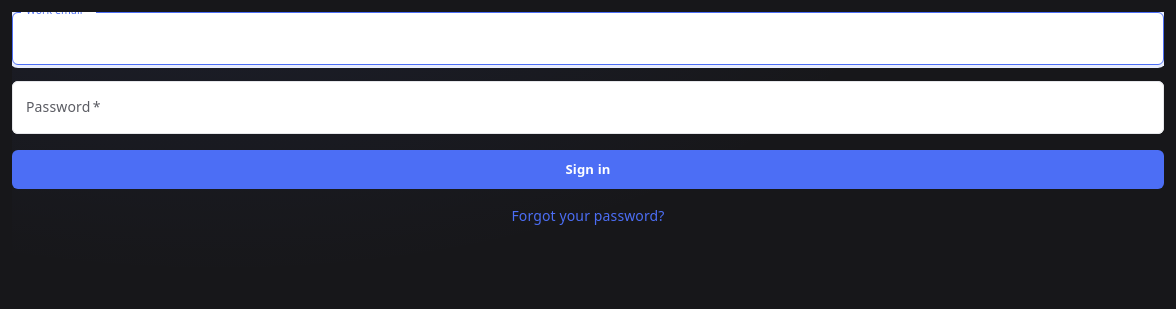
Scenario: LoginForm (no enumeration, trims + lowercases) › generic error copy (no account enumeration)
In the field labelled "Work email *": (588, 39) [12,12,1164,65], type "a@b.co"
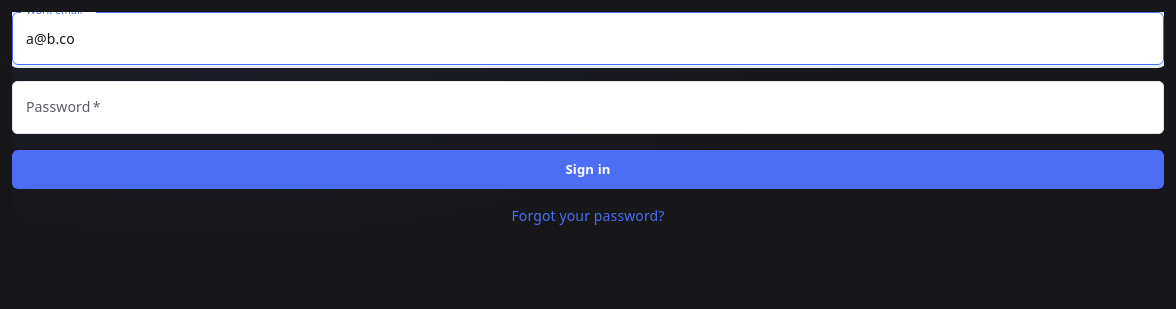
In the password field labelled "Password *": (588, 108) [12,81,1164,134], type "wrongpass1"
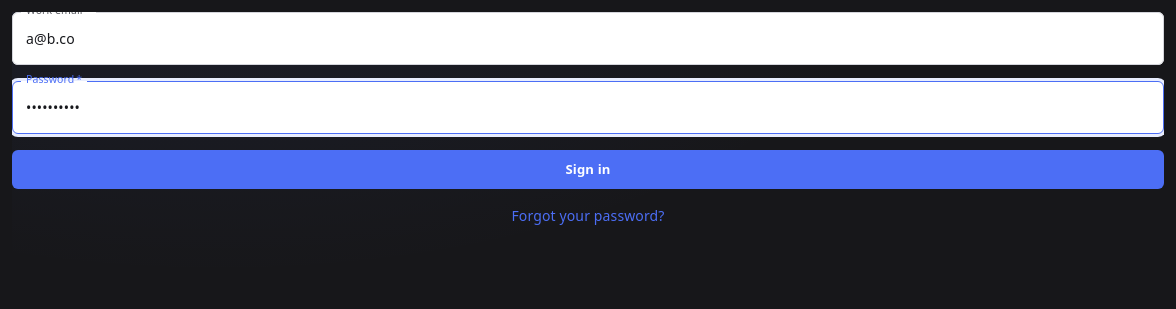
Click the button "Sign in": (588, 170) [12,150,1164,189]
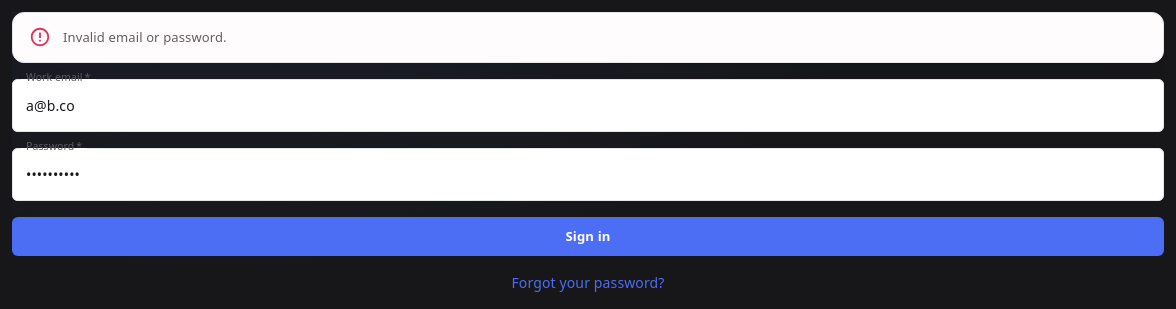
Result: the text "Invalid email or password." is shown at [63,28,227,46]
